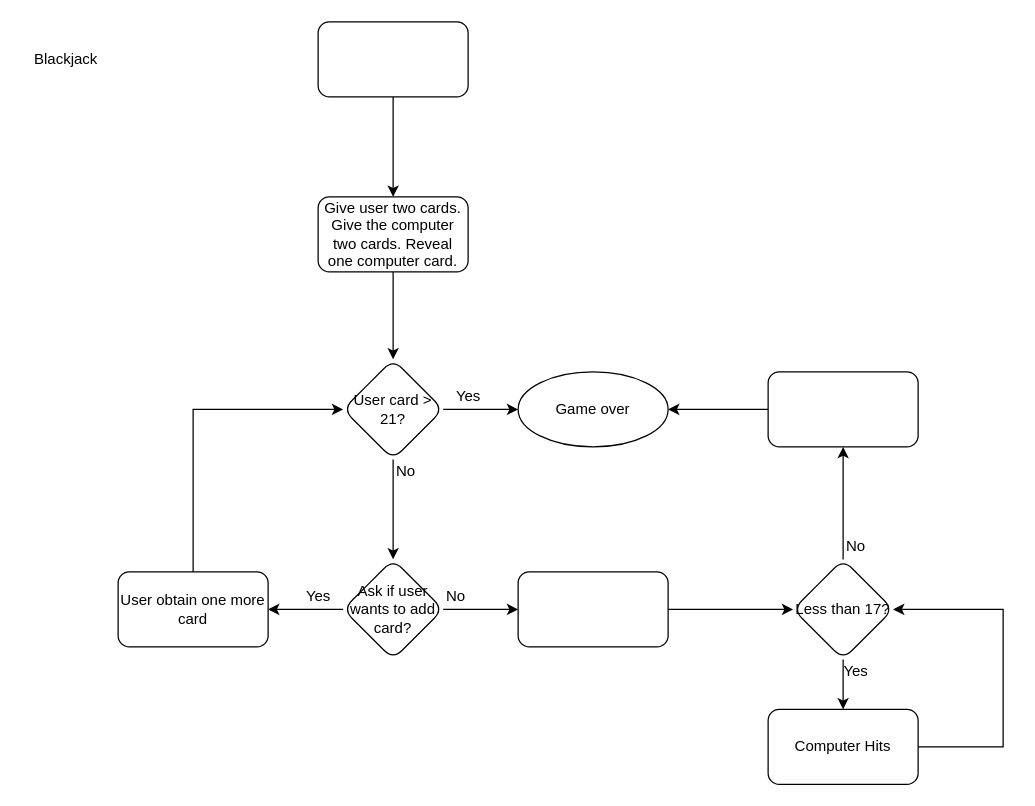
Some shapes in this 1035 by 806 pixel diagram are drawn without their labels. The shapes that lost their labels are listed below. From the top down, each one's centre as x and y in pixels, then its label:
At pixel 392 59: "Game Start".
At pixel 842 409: "Compare cards of user and dealer".
At pixel 592 609: "Reveal computer's card".
